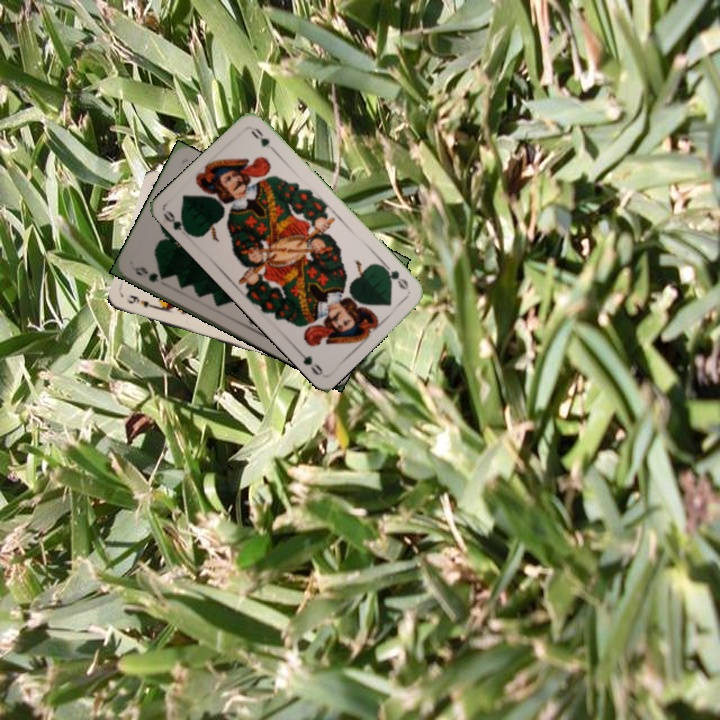E9: (122, 291, 161, 311)
G9: (131, 262, 168, 285)
GO: (160, 207, 195, 238), (379, 260, 411, 292)
